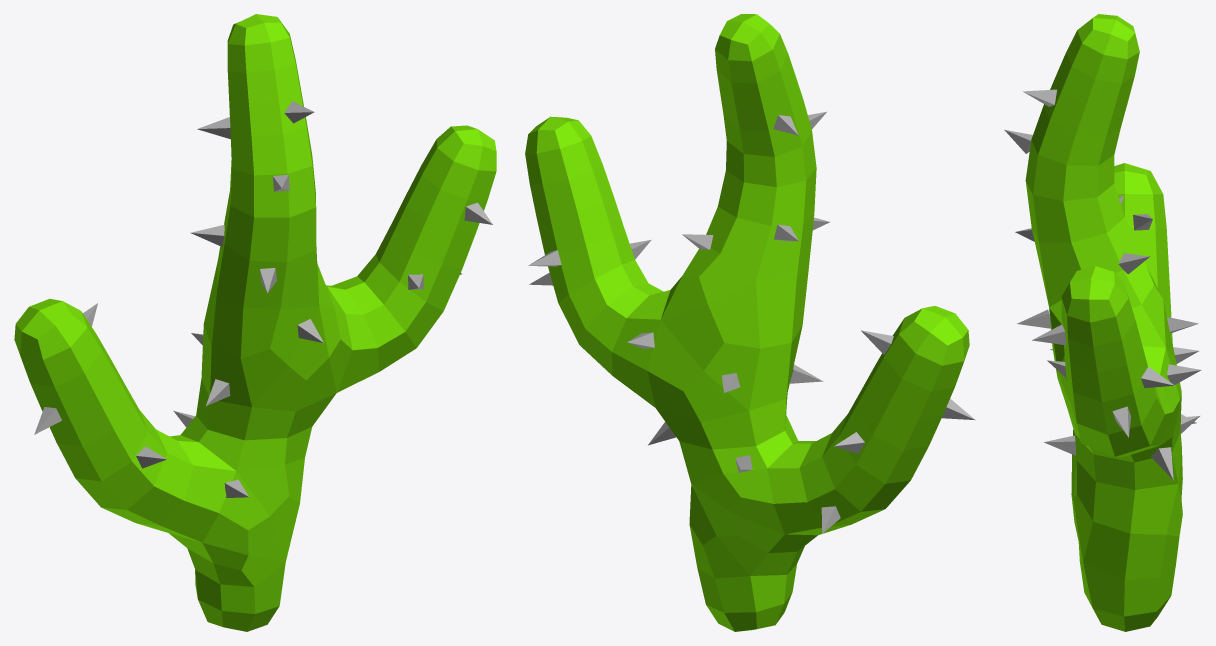
File: cactus4.fbx
3 views of the same model, side by side, from view 1: azimuth 30°, elevation 25°; view 2: azimuth 150°, elevation 25°; view 3: azimuth 270°, elevation 25° (orthographic). The views are drawn at different scales.
Parts seen in each view (by area): view 1: cactus4, Cone.003; view 2: cactus4, Cone.003; view 3: cactus4, Cone.003.
Boxes of the visible parts, x1,y1,x2,y2 form: cactus4: [14, 14, 496, 631]; Cone.003: [34, 101, 492, 497]; cactus4: [525, 14, 969, 631]; Cone.003: [528, 111, 975, 533]; cactus4: [1025, 14, 1182, 631]; Cone.003: [1004, 89, 1201, 479].
Size of the model in its own units: 135 by 173 by 50.56.
